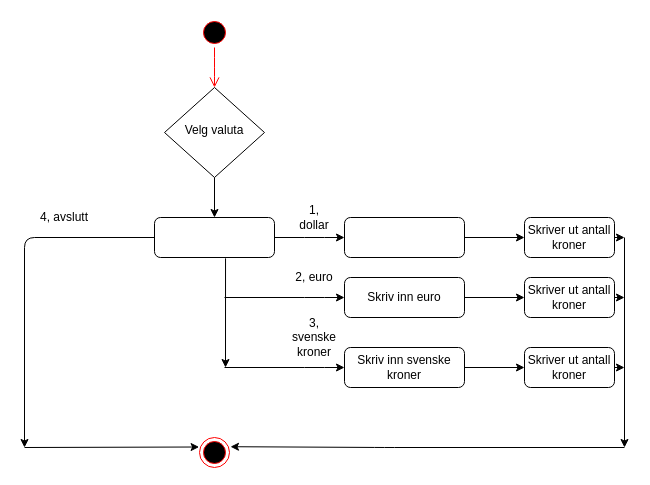
This 650x485 diagram has some shape labels left out. The shapes that lost their labels are listed below. From the top down, each one's box as (x1, y1, x2, y2) in pixels, then its label:
(154, 216, 274, 258): Leser inn valg fra bruker
(344, 216, 464, 258): Skriv inn dollar
